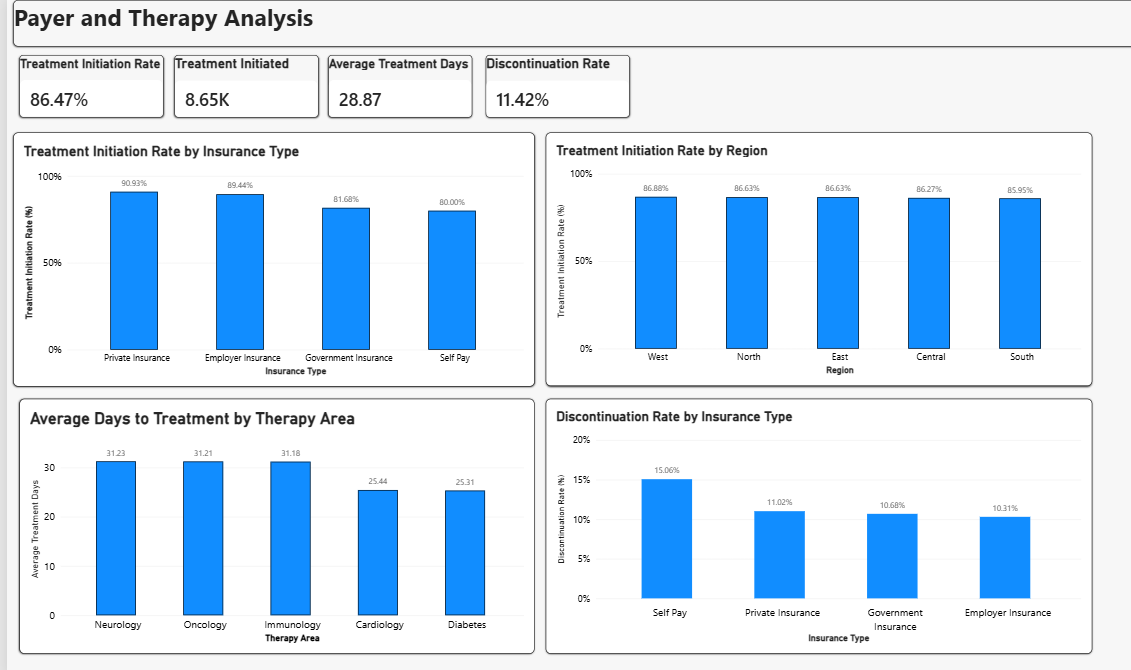

This screenshot's page, from the dashboard's own definition file:
{"tool":"powerbi","page":{"name":"Payer & Therapy Analysis","canvas":[1920,1080],"ordinal":2},"visuals":[{"type":"cardVisual","title":"Treatment Initiation Rate","fields":{"Data":["final_patient_analytics.Treatment Initiation Rate"]},"box":[19.9,88.7,180,100],"z":0},{"type":"cardVisual","title":"Treatment Initiated","fields":{"Data":["final_patient_analytics.Treatment Started Patients"]},"box":[228,88.7,180,100],"z":1000},{"type":"cardVisual","title":"Average Treatment Days","fields":{"Data":["final_patient_analytics.Average Days to Treatment"]},"box":[419.8,88.7,180,100],"z":2000},{"type":"cardVisual","title":"Discontinuation Rate","fields":{"Data":["final_patient_analytics.Discontinuation Rate"]},"box":[624.3,88.7,180,100],"z":3000},{"type":"clusteredColumnChart","title":"Treatment Initiation Rate by Insurance Type","fields":{"Category":["final_patient_analytics.insurance_type"],"Y":["final_patient_analytics.Treatment Initiation Rate"]},"box":[10.9,211.7,807.1,405.4],"z":4000},{"type":"clusteredColumnChart","fields":{"Category":["final_patient_analytics.therapy_area"],"Y":["final_patient_analytics.Average Days to Treatment"]},"box":[19.9,638.8,798.1,407.2],"z":5000},{"type":"clusteredColumnChart","title":"Treatment Initiation Rate by Region","fields":{"Category":["final_patient_analytics.region"],"Y":["final_patient_analytics.Treatment Initiation Rate"]},"box":[843.3,211.7,874.1,405.4],"z":6000},{"type":"clusteredColumnChart","title":"Discontinuation Rate by Insurance Type","fields":{"Category":["final_patient_analytics.insurance_type"],"Y":["final_patient_analytics.Discontinuation Rate"]},"box":[843.3,638.8,834.3,407.2],"z":7000},{"type":"textbox","box":[10.9,0,1811.5,74.2],"z":8000}]}

Visuals, with their boxes on the page's 1920x1080 design canvas (x1, y1, x2, y2). These are canvas units, not pixel positions in the 1131x670 screenshot, which may show the page scaled, cropped or inside an application window:
"Treatment Initiation Rate" cardVisual: [left=20, top=89, right=200, bottom=189]
"Treatment Initiated" cardVisual: [left=228, top=89, right=408, bottom=189]
"Average Treatment Days" cardVisual: [left=420, top=89, right=600, bottom=189]
"Discontinuation Rate" cardVisual: [left=624, top=89, right=804, bottom=189]
"Treatment Initiation Rate by Insurance Type" clusteredColumnChart: [left=11, top=212, right=818, bottom=617]
clusteredColumnChart - final_patient_analytics.therapy_area x final_patient_analytics.Average Days to Treatment: [left=20, top=639, right=818, bottom=1046]
"Treatment Initiation Rate by Region" clusteredColumnChart: [left=843, top=212, right=1717, bottom=617]
"Discontinuation Rate by Insurance Type" clusteredColumnChart: [left=843, top=639, right=1678, bottom=1046]
textbox: [left=11, top=0, right=1822, bottom=74]
